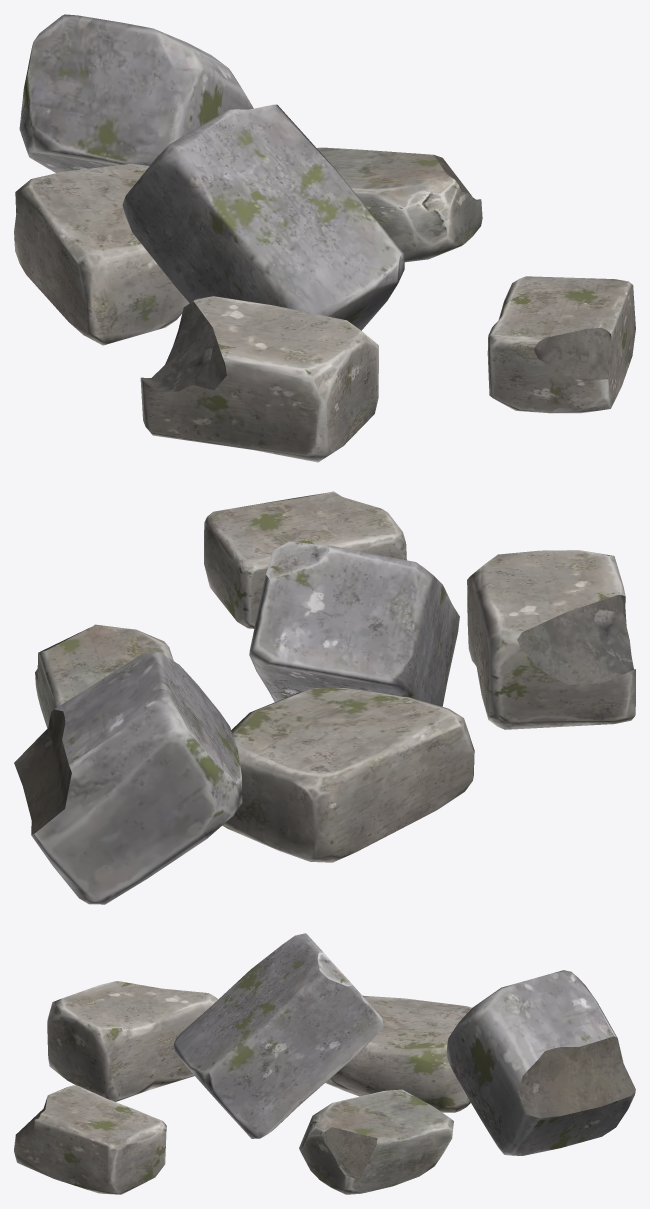
3 views of the same model, one above another, from view 1: azimuth 30°, elevation 25°; view 2: azimuth 150°, elevation 25°; view 3: azimuth 270°, elevation 25° (orthographic). The views are drawn at different scales.
Parts seen in each view (by area): view 1: SM_Castle_Floor_Stones_01_Dmg_v1_LOD0; view 2: SM_Castle_Floor_Stones_01_Dmg_v1_LOD0; view 3: SM_Castle_Floor_Stones_01_Dmg_v1_LOD0.
Boxes of the visible parts, x1,y1,x2,y2 form: SM_Castle_Floor_Stones_01_Dmg_v1_LOD0: (14,14,635,462); SM_Castle_Floor_Stones_01_Dmg_v1_LOD0: (14,491,635,904); SM_Castle_Floor_Stones_01_Dmg_v1_LOD0: (14,933,635,1194).
Size of the model in its own units: 2.29 by 1.06 by 3.57.
Materials: 2 (2 with a texture image).
